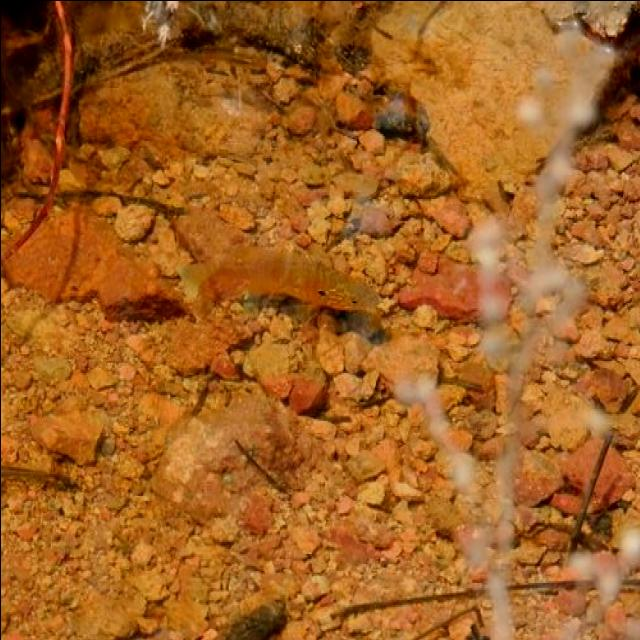Gunes Levregi: (170, 247, 378, 331)
